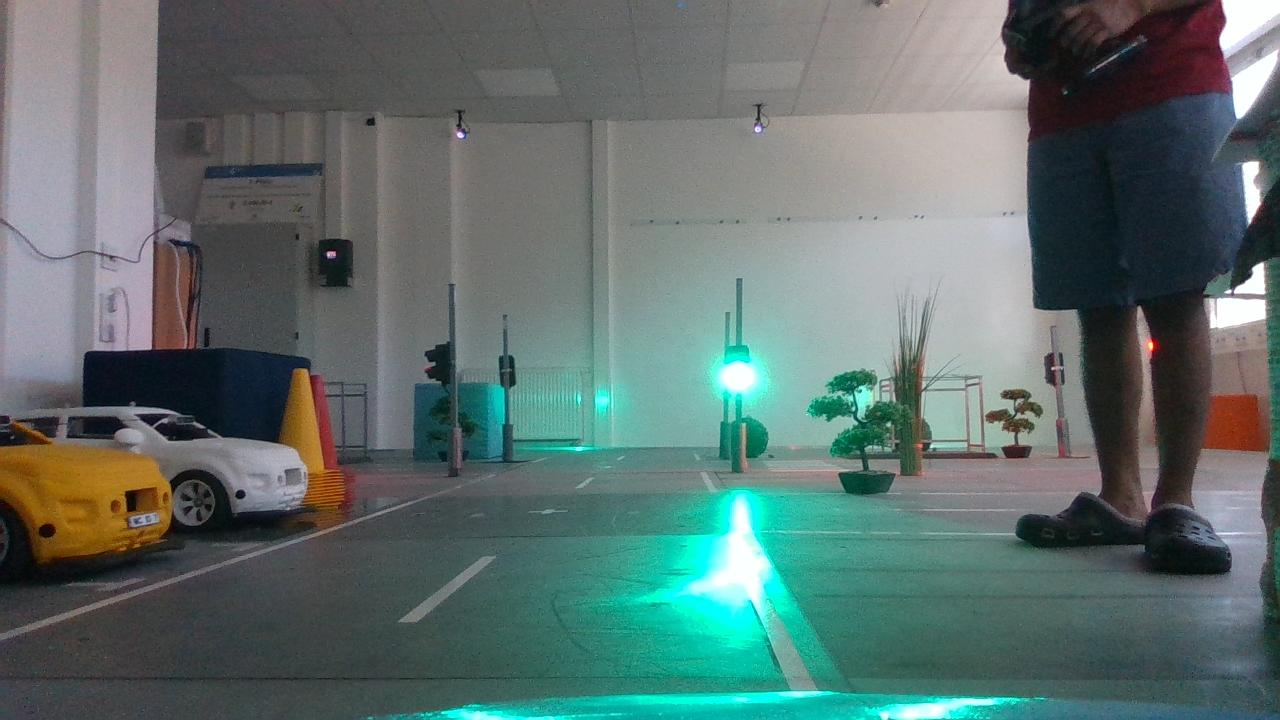traffic_light_green: (715, 340, 760, 402)
